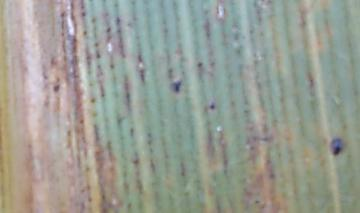tarspot: (328, 135, 343, 156), (169, 78, 183, 96), (130, 151, 141, 166), (138, 67, 147, 82), (78, 1, 85, 18), (52, 83, 61, 95), (136, 52, 145, 64), (41, 71, 50, 81), (104, 25, 113, 34), (114, 14, 121, 25), (107, 61, 116, 69), (88, 96, 96, 104), (95, 52, 103, 60), (208, 103, 217, 110), (253, 198, 262, 205), (89, 14, 96, 23), (195, 61, 203, 68), (81, 29, 89, 36), (78, 118, 85, 125), (93, 40, 99, 47)
